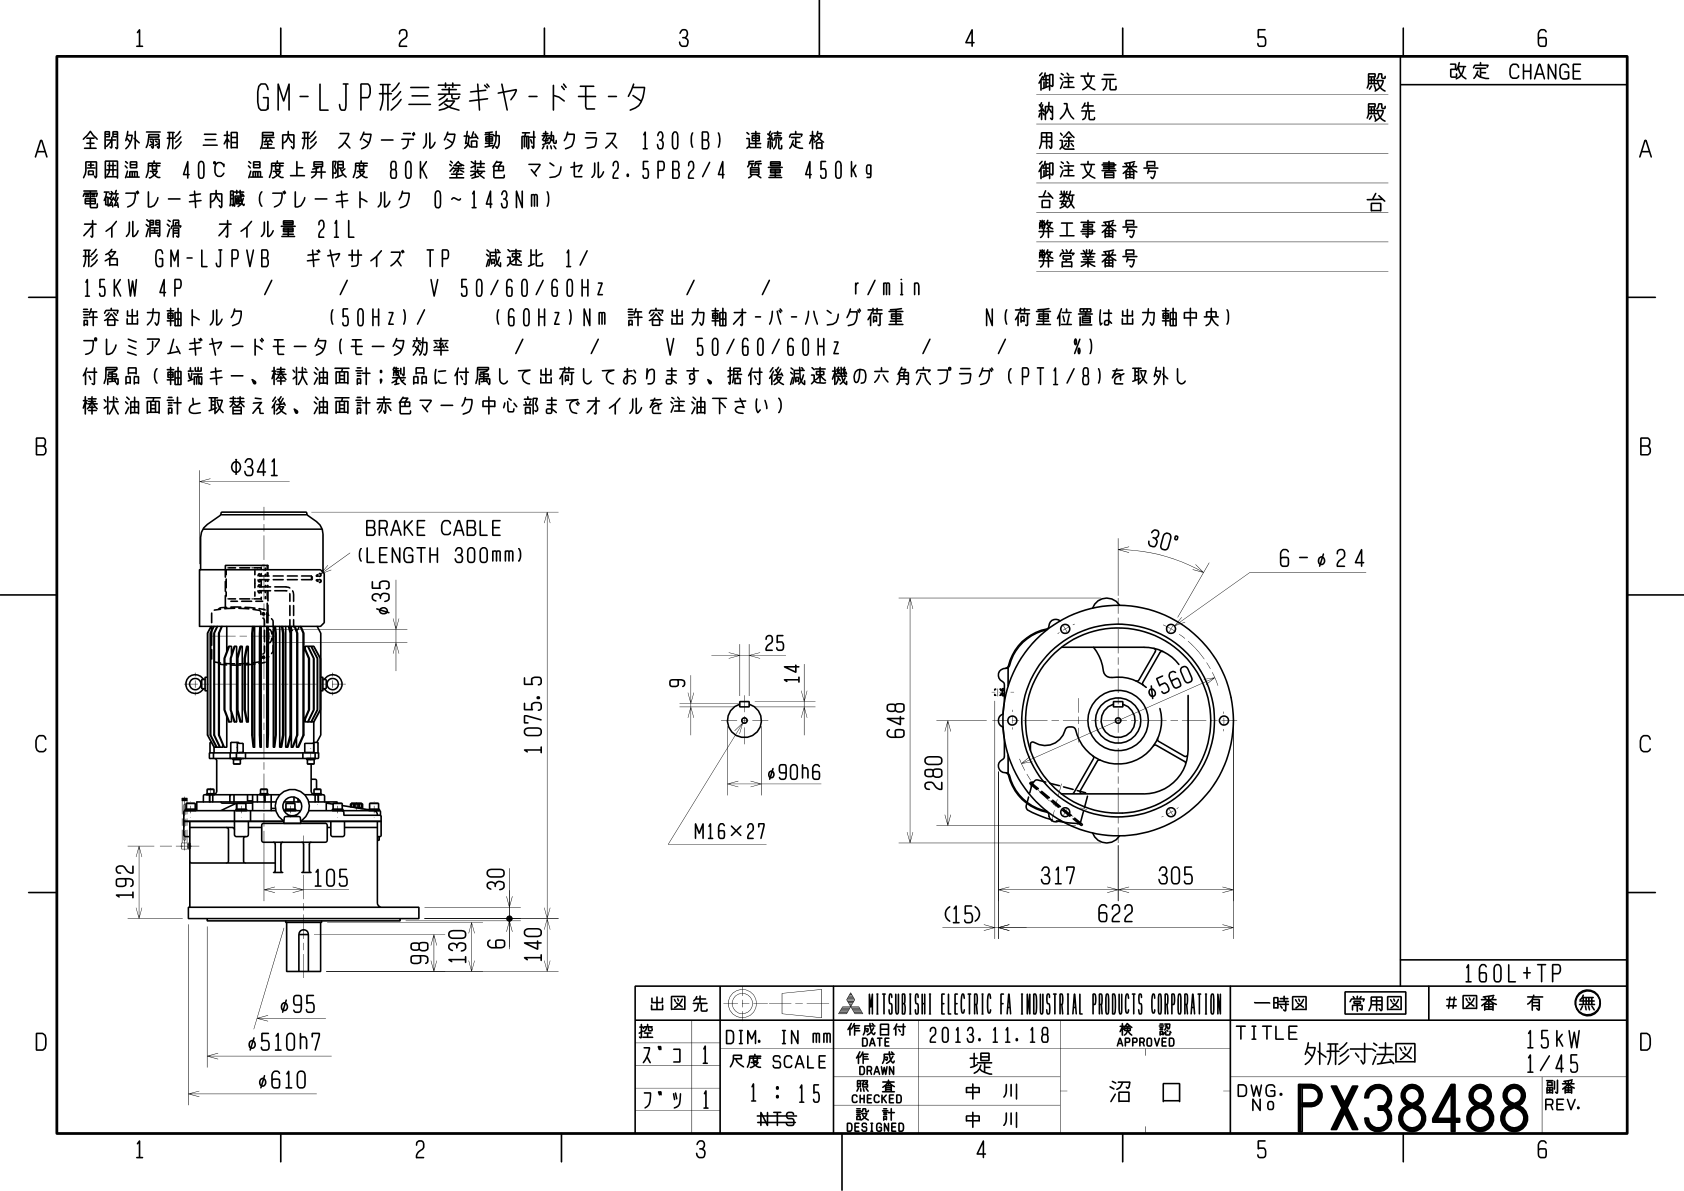GM_LJP_屋内_三相_立: (75, 433, 1371, 953)
